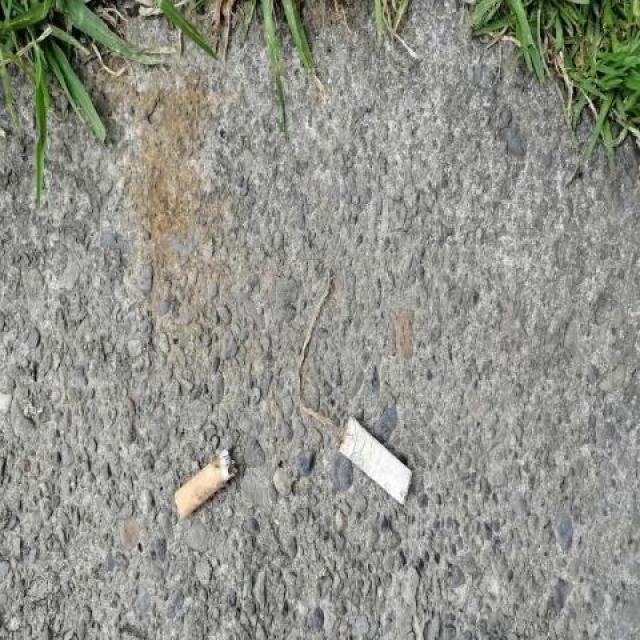non-organic waste: (335, 410, 416, 510), (170, 440, 242, 524)
